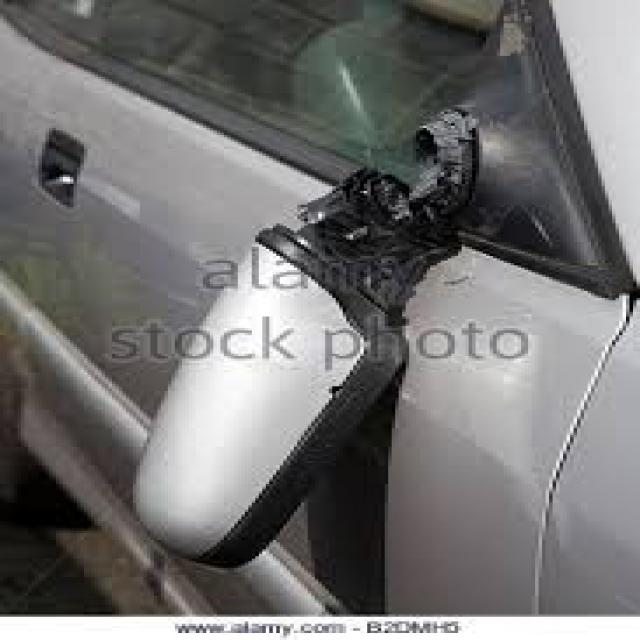minor: (199, 36, 539, 383)
